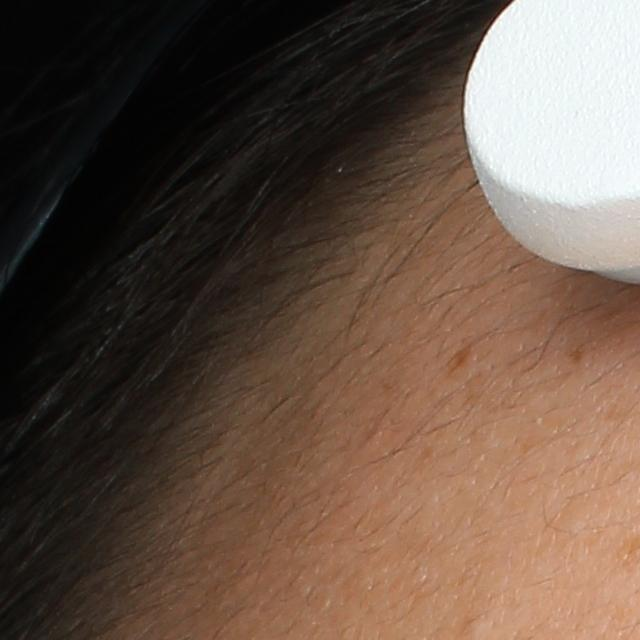melasma: (443, 342, 481, 374)
